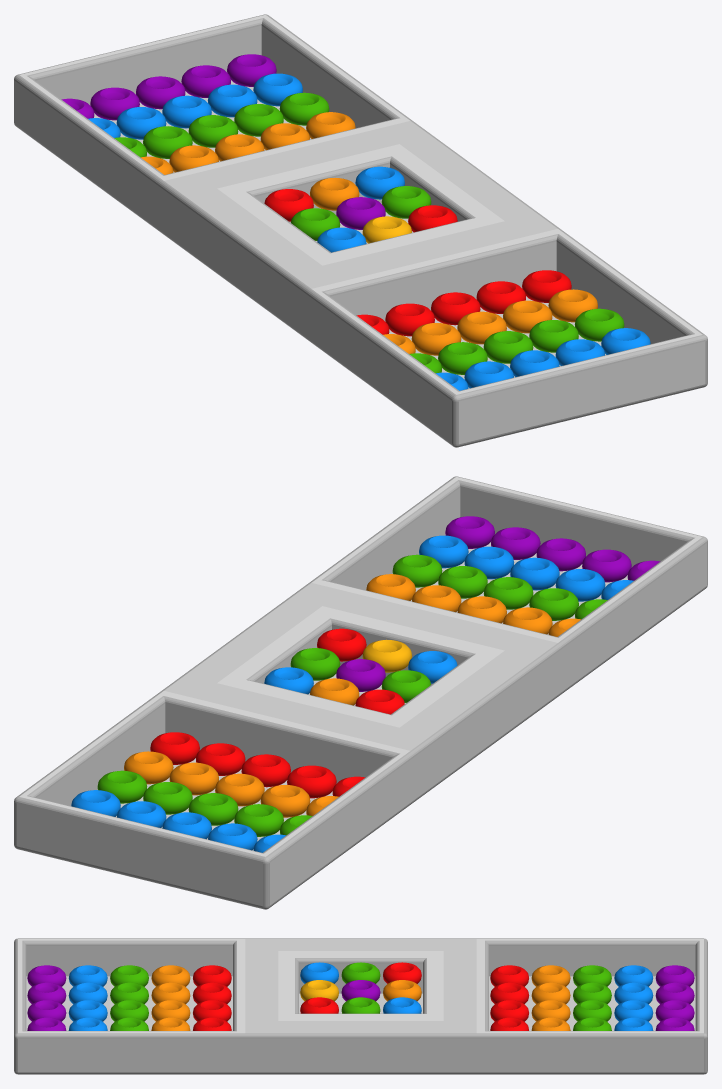
The model's file is base_circle_pieces.fbx.
3 views of the same model, one above another, from view 1: azimuth 30°, elevation 25°; view 2: azimuth 150°, elevation 25°; view 3: azimuth 270°, elevation 25° (orthographic). The views are drawn at different scales.
Parts seen in each view (by area): view 1: base, Circle.012, Circle.039, Circle.006, Circle.056, Circle.043, Circle.049, Circle.018, Circle.022, Circle.035, Circle.021, Circle.048 (+30 smaller); view 2: base, Circle.014, Circle.037, Circle.031, Circle.058, Circle.018, Circle.024, Circle.043, Circle.010, Circle.047, Circle.023, Circle.046 (+30 smaller); view 3: base, Circle.009, Circle.010, Circle.034, Circle.035, Circle.007, Circle.032, Circle.013, Circle.038, Circle.003, Circle.006, Circle.028 (+38 smaller).
Part boxes in pixels (x1,y1,x2,y2): base: (14, 14, 707, 447); Circle.012: (457, 311, 506, 344); Circle.039: (162, 95, 211, 128); Circle.006: (385, 303, 434, 336); Circle.056: (355, 166, 404, 199); Circle.043: (234, 104, 283, 136); Circle.049: (253, 73, 302, 106); Circle.018: (529, 320, 578, 352); Circle.022: (548, 289, 597, 322); Circle.035: (90, 87, 139, 120); Circle.021: (522, 270, 571, 302); Circle.048: (279, 92, 329, 125); base: (14, 476, 707, 909); Circle.014: (510, 557, 559, 590); Circle.037: (215, 773, 264, 806); Circle.031: (287, 765, 336, 798); Circle.058: (317, 628, 366, 661); Circle.018: (438, 566, 487, 598); Circle.024: (419, 535, 468, 568); Circle.043: (143, 782, 192, 814); Circle.010: (582, 549, 631, 582); Circle.047: (124, 751, 173, 784); Circle.023: (392, 554, 442, 587); Circle.046: (150, 732, 199, 764); base: (14, 938, 707, 1074); Circle.009: (68, 982, 107, 1004); Circle.010: (27, 982, 66, 1004); Circle.034: (614, 982, 653, 1004); Circle.035: (655, 982, 694, 1004); Circle.007: (151, 982, 190, 1003); Circle.032: (531, 982, 570, 1003); Circle.013: (110, 1000, 148, 1021); Circle.038: (573, 1000, 611, 1021); Circle.003: (110, 965, 148, 986); Circle.006: (192, 982, 231, 1003); Circle.028: (573, 965, 611, 986).
Size of the model in its own units: 200 by 40.19 by 600.
